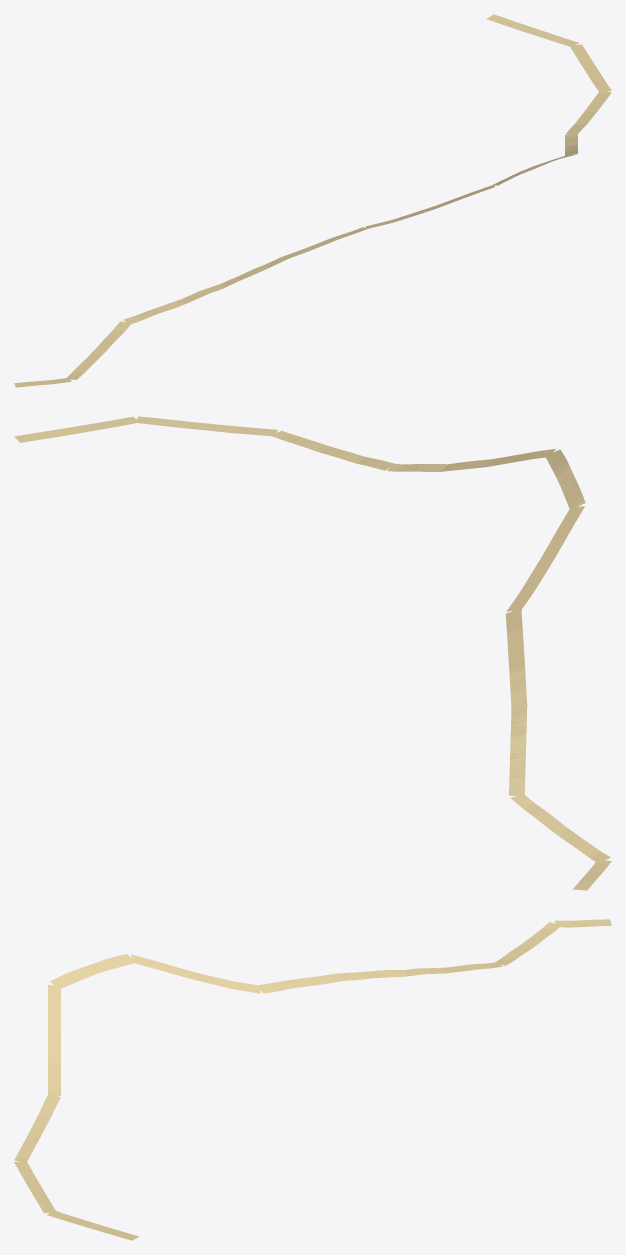
Rendered from Trail_33.glb.
3 renders of one model, top to bottom at view 1: azimuth 90°, elevation 25°; view 2: azimuth 150°, elevation 25°; view 3: azimuth 270°, elevation 25°, orthographic. The views are drawn at different scales.
Visible parts, largest first — view 1: Trail_33; view 2: Trail_33; view 3: Trail_33.
Part boxes in pixels (x1,y1,x2,y2): Trail_33: [14, 14, 611, 387]; Trail_33: [14, 416, 611, 890]; Trail_33: [14, 919, 611, 1240].
Size of the model in its own units: 110 by 13.14 by 80.35.
